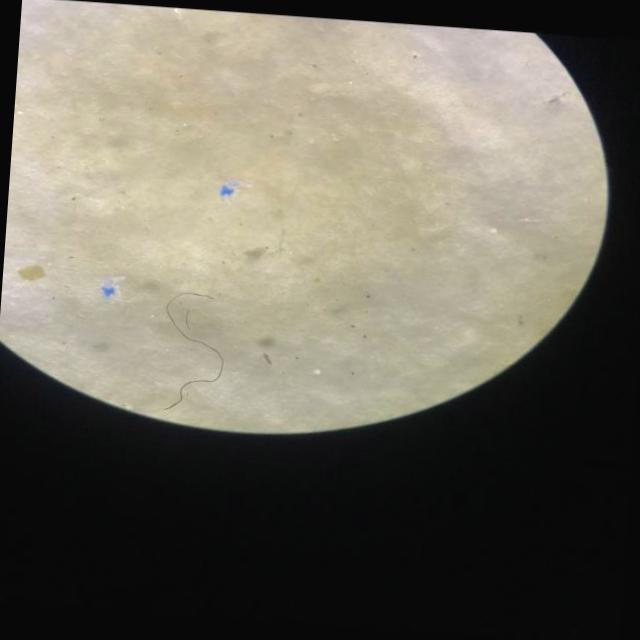fiber: (162, 293, 224, 410)
film: (100, 277, 125, 298), (102, 278, 119, 299), (221, 182, 241, 198), (220, 180, 250, 187)
fragment: (19, 265, 44, 280)
pellet: (314, 369, 321, 374), (492, 229, 496, 233)
